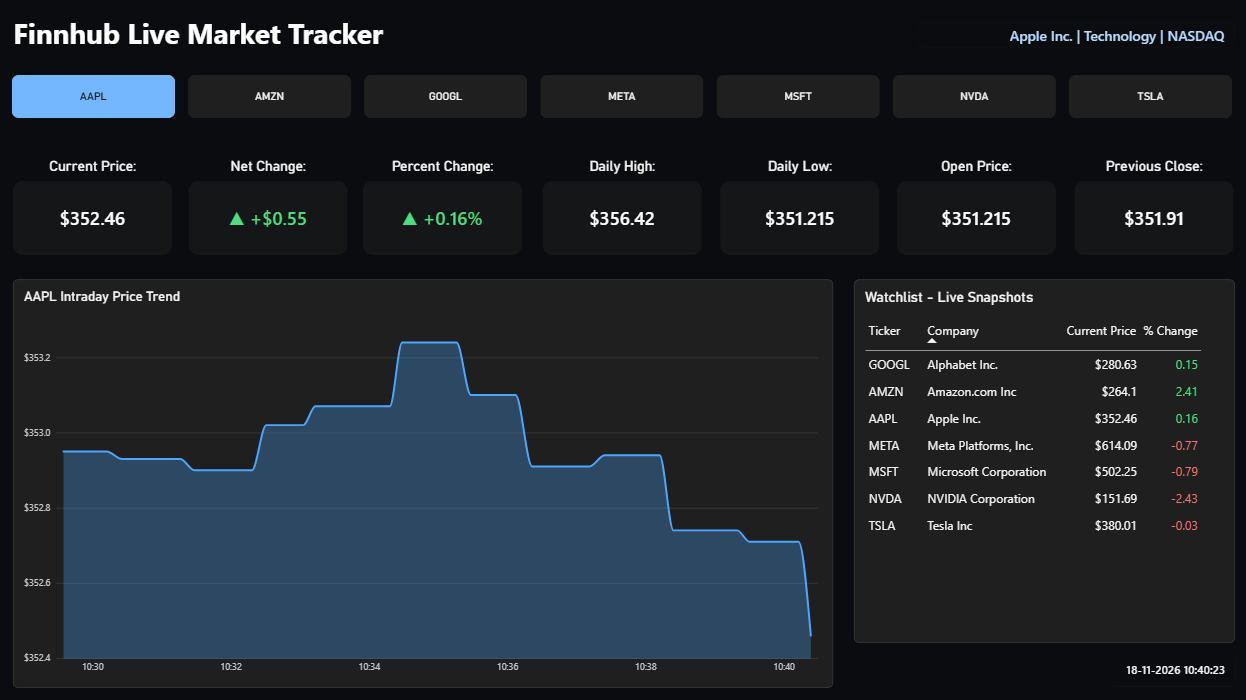

The dashboard page shown, as its layout file describes it:
{"tool":"powerbi","page":{"name":"Finnhub Live data stream","canvas":[1920,1080],"ordinal":0},"visuals":[{"type":"textbox","box":[0,24.6,1920.7,64.9],"z":0},{"type":"advancedSlicerVisual","fields":{"Values":["public live_stock_history.ticker"]},"box":[19.3,119.3,1880.3,66.7],"z":1000},{"type":"cardVisual","fields":{"Data":["public live_stock_history.Company Banner"]},"box":[1412,38.6,489.4,38.6],"z":2000},{"type":"tableEx","title":"Watchlist - Live Snapshots","fields":{"Values":["public live_stock_history_snapshot.ticker","public live_stock_history_snapshot.company_name","Sum(public live_stock_history_snapshot.current_price)","Sum(public live_stock_history_snapshot.percent_change)"]},"box":[1315.2,432.4,586,559.2],"z":3000},{"type":"cardVisual","title":"Percent Change:","fields":{"Data":["public live_stock_history.Latest Percent Change"]},"box":[559.5,245.6,245.2,151],"z":4000},{"type":"cardVisual","title":"Daily High:","fields":{"Data":["public live_stock_history.Latest Daily High"]},"box":[836.7,245.6,245.2,151],"z":5000},{"type":"cardVisual","title":"Daily Low:","fields":{"Data":["public live_stock_history.Latest Daily Low"]},"box":[1108.6,245.6,245.2,151],"z":6000},{"type":"cardVisual","title":"Current Price:","fields":{"Data":["public live_stock_history.Latest Price"]},"box":[21,245.6,245.2,151],"z":7000},{"type":"cardVisual","title":"Net Change:","fields":{"Data":["public live_stock_history.Latest Net Change"]},"box":[291.2,245.6,245.2,151],"z":8000},{"type":"cardVisual","fields":{"Data":["public live_stock_history.Latest Timestamp"]},"box":[1710.3,1008,192.4,52.2],"z":9000},{"type":"cardVisual","title":"Open Price:","fields":{"Data":["public live_stock_history.Open Price"]},"box":[1380.4,245.6,245.2,151],"z":10000},{"type":"cardVisual","title":"Previous Close:","fields":{"Data":["public live_stock_history.Previous Close"]},"box":[1654.1,245.6,245.2,151],"z":11000},{"type":"lineChart","fields":{"Category":["public live_stock_history.timestamp"],"Y":["Min(public live_stock_history.current_price)"]},"box":[20.9,432.4,1261.5,627.8],"z":12000}]}

Visuals, with their boxes in screenshot pixels (x1, y1, x2, y2), scaled from the page's 1920x1080 canvas onto the 1246x700 screenshot:
textbox: {"x1": 0, "y1": 16, "x2": 1245, "y2": 58}
advancedSlicerVisual - public live_stock_history.ticker: {"x1": 13, "y1": 77, "x2": 1233, "y2": 121}
cardVisual - public live_stock_history.Company Banner: {"x1": 916, "y1": 25, "x2": 1234, "y2": 50}
"Watchlist - Live Snapshots" tableEx: {"x1": 854, "y1": 280, "x2": 1234, "y2": 643}
"Percent Change:" cardVisual: {"x1": 363, "y1": 159, "x2": 522, "y2": 257}
"Daily High:" cardVisual: {"x1": 543, "y1": 159, "x2": 702, "y2": 257}
"Daily Low:" cardVisual: {"x1": 719, "y1": 159, "x2": 879, "y2": 257}
"Current Price:" cardVisual: {"x1": 14, "y1": 159, "x2": 173, "y2": 257}
"Net Change:" cardVisual: {"x1": 189, "y1": 159, "x2": 348, "y2": 257}
cardVisual - public live_stock_history.Latest Timestamp: {"x1": 1110, "y1": 653, "x2": 1235, "y2": 687}
"Open Price:" cardVisual: {"x1": 896, "y1": 159, "x2": 1055, "y2": 257}
"Previous Close:" cardVisual: {"x1": 1073, "y1": 159, "x2": 1233, "y2": 257}
lineChart - public live_stock_history.timestamp x Min(public live_stock_history.current_price): {"x1": 14, "y1": 280, "x2": 832, "y2": 687}
